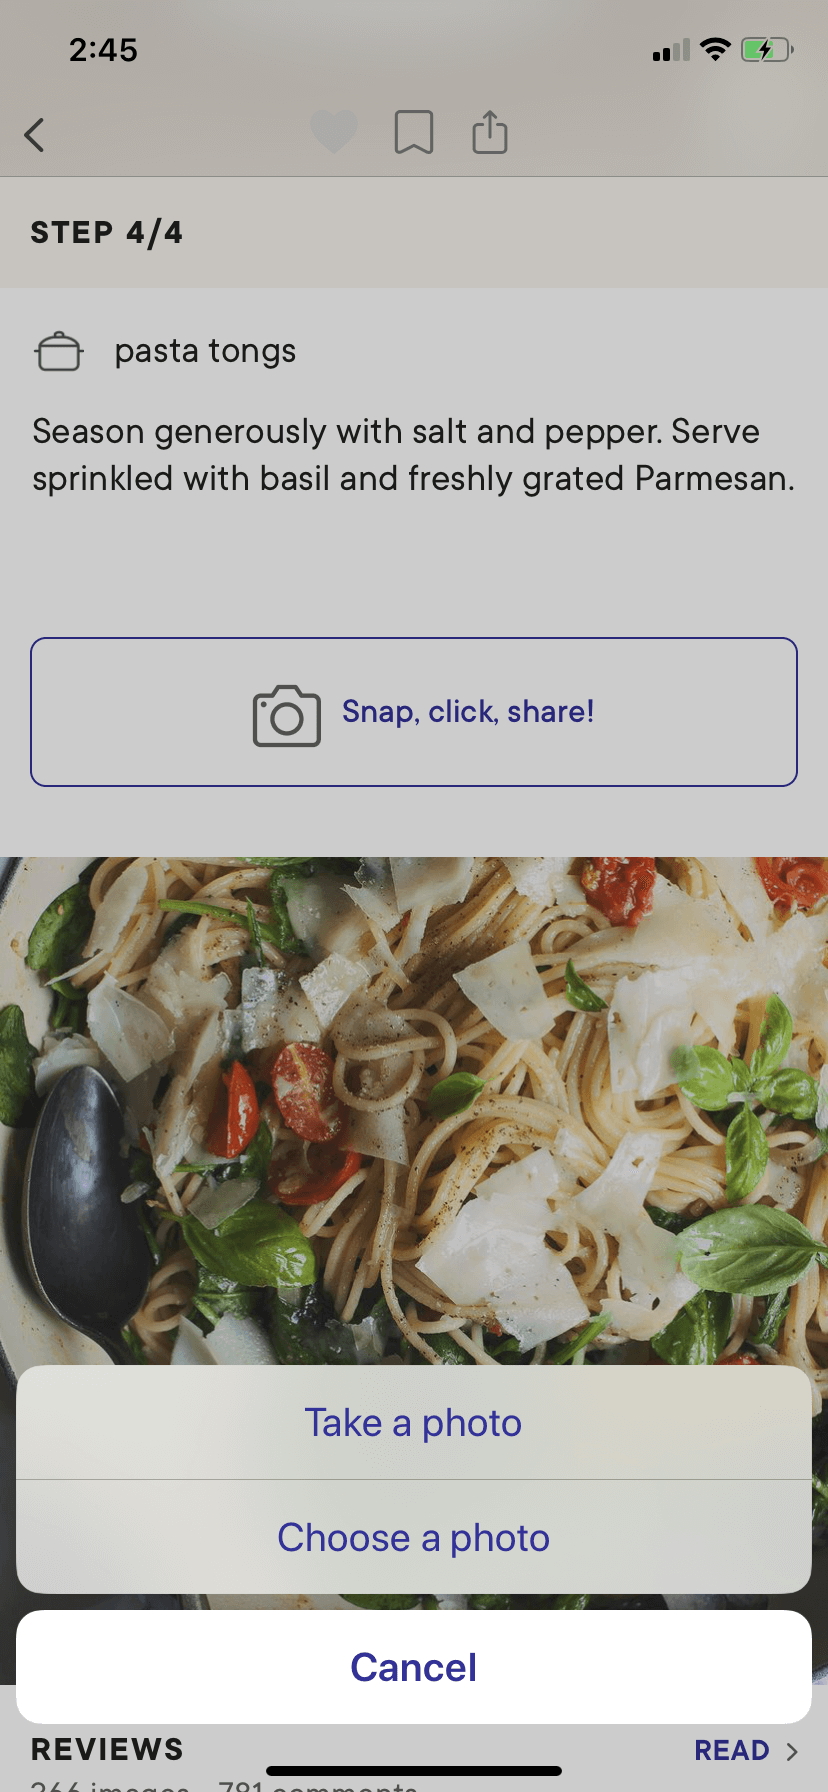Buttons: (24, 624, 804, 797), (672, 1728, 813, 1785), (9, 93, 96, 174), (383, 91, 457, 176), (457, 91, 533, 170)
